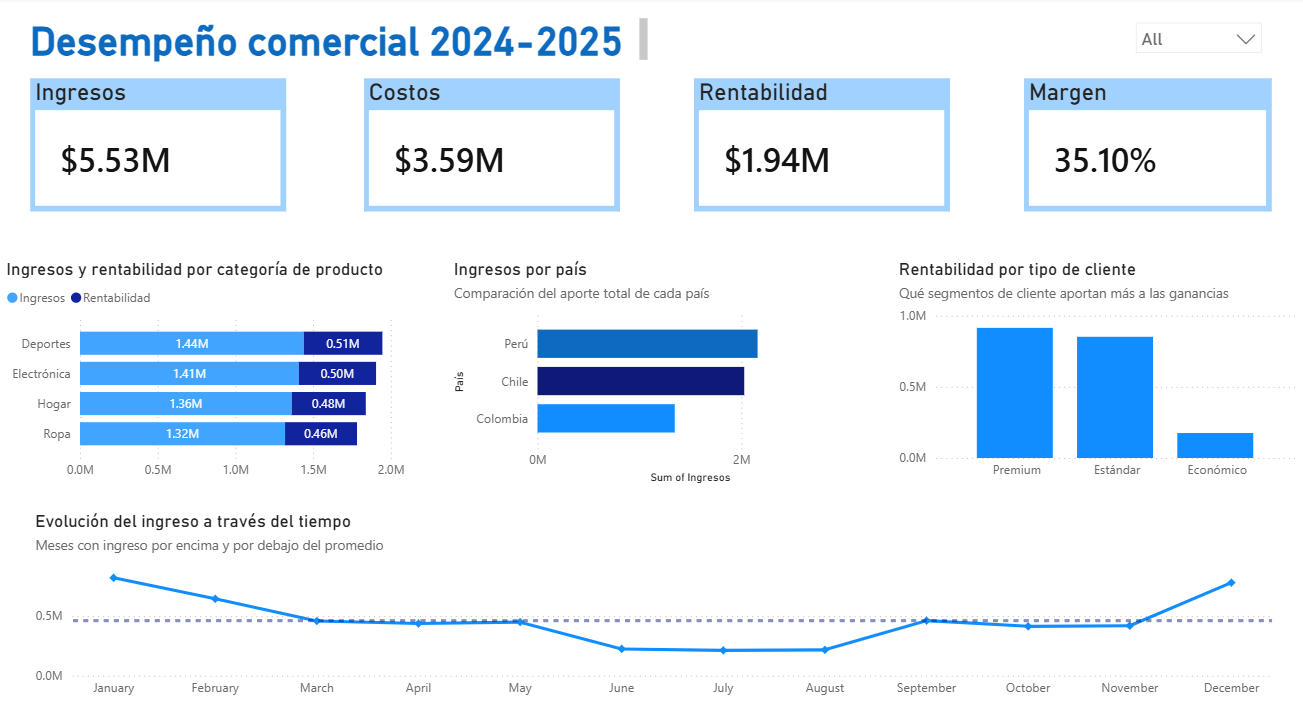

This screenshot's page, from the dashboard's own definition file:
{"tool":"powerbi","page":{"name":"Overview","canvas":[1280,720],"ordinal":0},"visuals":[{"type":"cardVisual","title":"Ingresos","fields":{"Data":["Sum(Andes_Retail_Group_2024_2025.Ingresos)"]},"box":[30.1,79.8,250,130.3],"z":0},{"type":"lineChart","title":"Evolución del ingreso a través del tiempo","fields":{"Category":["Andes_Retail_Group_2024_2025.Fecha_Pedido.Variation.Date Hierarchy.Month"],"Y":["Sum(Andes_Retail_Group_2024_2025.Ingresos)"]},"box":[30,503,1220,191],"z":1000},{"type":"barChart","title":"Ingresos y rentabilidad por categoría de producto","fields":{"Category":["Andes_Retail_Group_2024_2025.Categoría_Producto"],"Y":["Sum(Andes_Retail_Group_2024_2025.Ingresos)","Sum(Andes_Retail_Group_2024_2025.Margen_Bruto)"]},"box":[3,255,400,225],"z":2000},{"type":"cardVisual","title":"Costos","fields":{"Data":["Sum(Andes_Retail_Group_2024_2025.Costo)"]},"box":[357.3,79.8,250,130.3],"z":3000},{"type":"cardVisual","title":"Rentabilidad","fields":{"Data":["Sum(Andes_Retail_Group_2024_2025.Margen_Bruto)"]},"box":[680.1,79.8,250,130.3],"z":4000},{"type":"textbox","box":[26,16,614,52],"z":5000},{"type":"slicer","fields":{"Values":["Andes_Retail_Group_2024_2025.Fecha_Pedido.Variation.Date Hierarchy.Year"]},"box":[1101.7,15,143.3,51.7],"z":6000},{"type":"clusteredColumnChart","title":"Rentabilidad por tipo de cliente","fields":{"Y":["Sum(Andes_Retail_Group_2024_2025.Margen_Bruto)"],"Category":["Andes_Retail_Group_2024_2025.Segmento_Cliente"]},"box":[875,255,400,225],"z":7000},{"type":"clusteredBarChart","title":"Ingresos por país","fields":{"Category":["Andes_Retail_Group_2024_2025.País"],"Y":["Sum(Andes_Retail_Group_2024_2025.Ingresos)"]},"box":[440,255,400,225],"z":8000},{"type":"cardVisual","title":"Margen","fields":{"Data":["Andes_Retail_Group_2024_2025.Sum of Margen_Bruto divided by Sum of Ingresos 2"]},"box":[1002.9,79.8,242.1,130.3],"z":9000}]}

Visuals, with their boxes in screenshot pixels (x1, y1, x2, y2), scaled from the page's 1280x720 canvas onto the 1303x727 screenshot:
"Ingresos" cardVisual: x1=31 y1=81 x2=285 y2=212
"Evolución del ingreso a través del tiempo" lineChart: x1=31 y1=508 x2=1272 y2=701
"Ingresos y rentabilidad por categoría de producto" barChart: x1=3 y1=257 x2=410 y2=485
"Costos" cardVisual: x1=364 y1=81 x2=618 y2=212
"Rentabilidad" cardVisual: x1=692 y1=81 x2=947 y2=212
textbox: x1=26 y1=16 x2=652 y2=69
slicer - Andes_Retail_Group_2024_2025.Fecha_Pedido.Variation.Date Hierarchy.Year: x1=1121 y1=15 x2=1267 y2=67
"Rentabilidad por tipo de cliente" clusteredColumnChart: x1=891 y1=257 x2=1298 y2=485
"Ingresos por país" clusteredBarChart: x1=448 y1=257 x2=855 y2=485
"Margen" cardVisual: x1=1021 y1=81 x2=1267 y2=212
